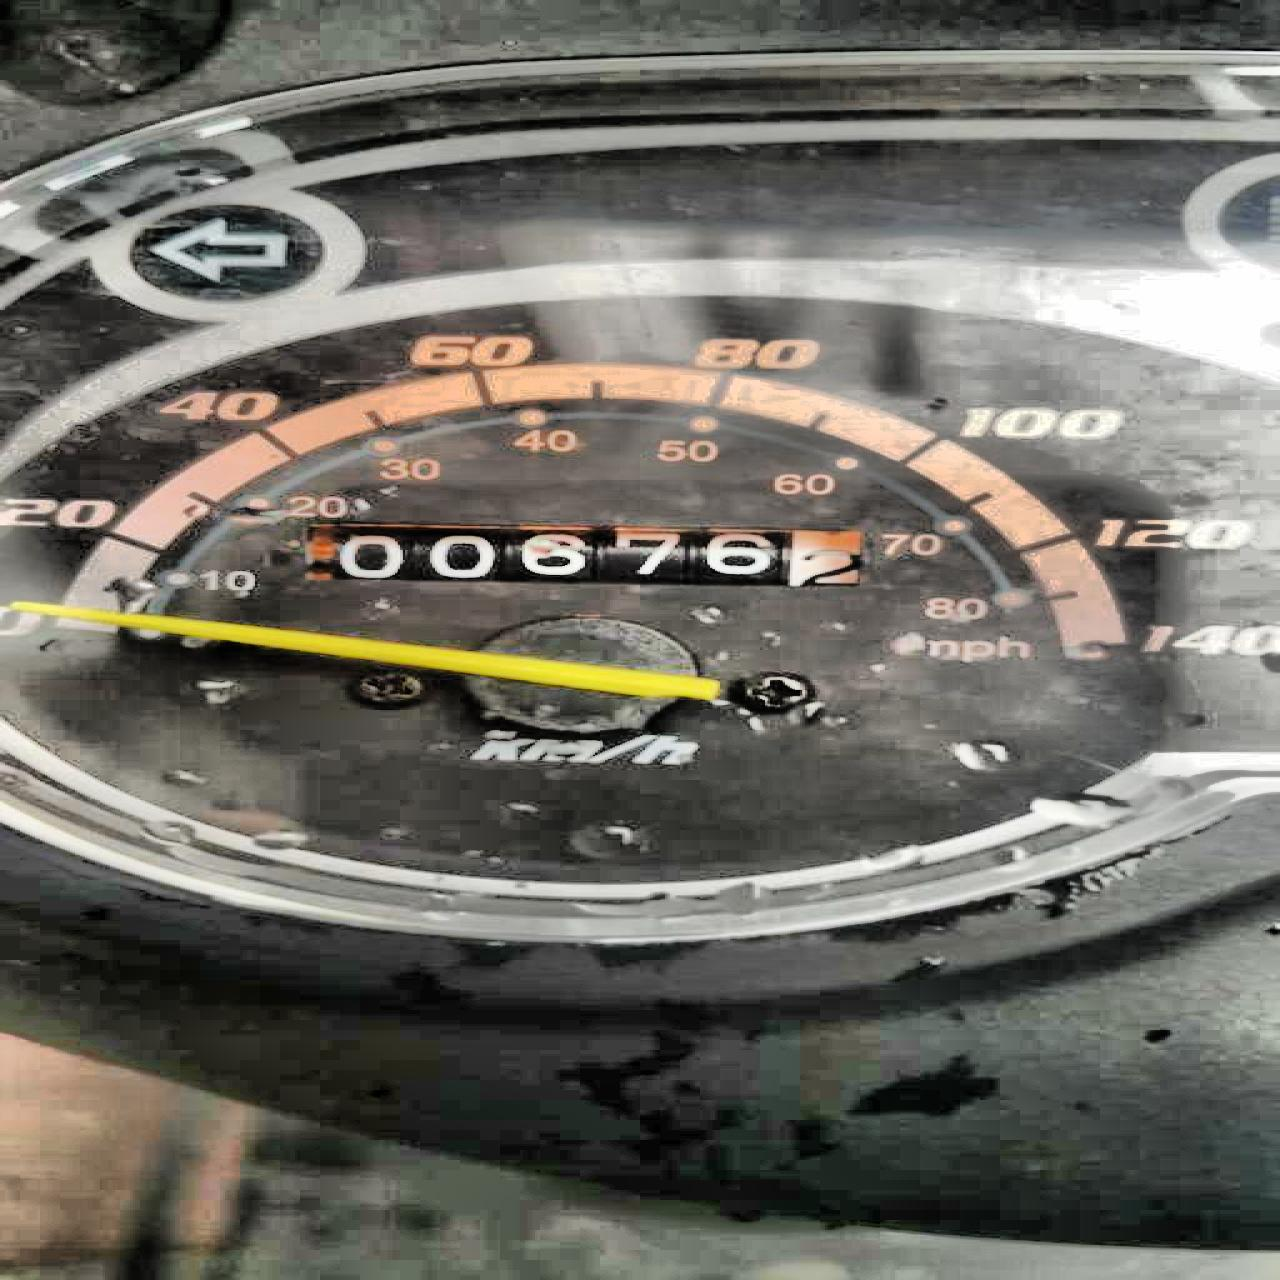0: (325, 535, 410, 581), (422, 535, 503, 580)
2: (797, 539, 865, 592)
6: (702, 530, 772, 584), (517, 532, 587, 580)
7: (607, 531, 682, 579)
odometer: (293, 524, 885, 601)
